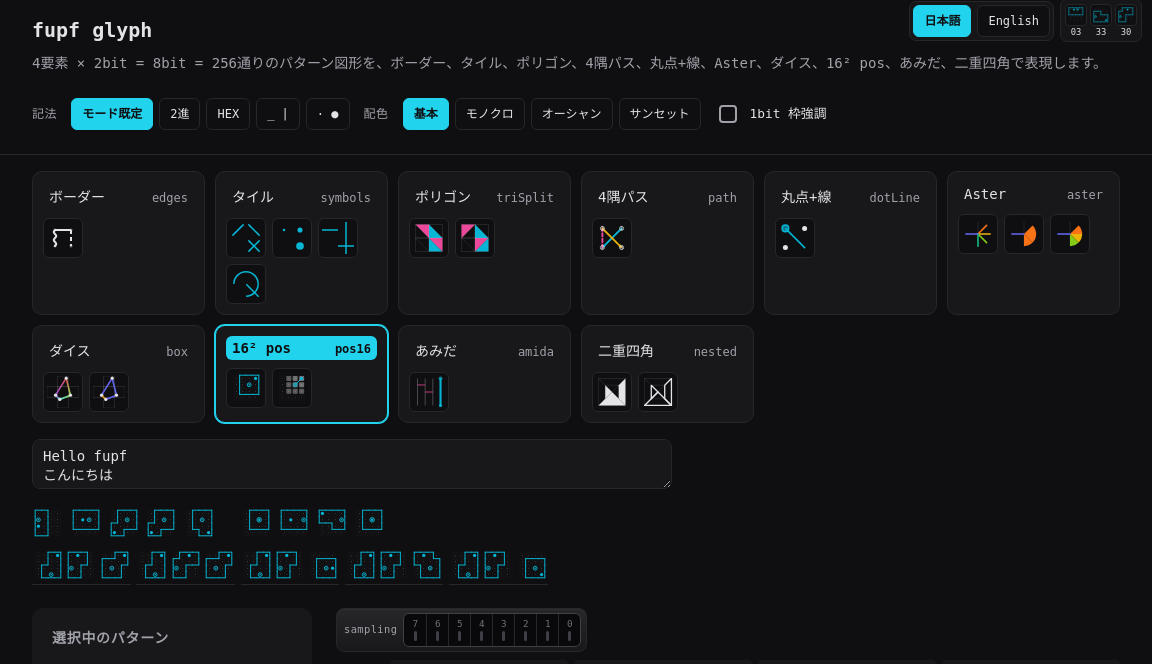
Test case: App › filters grid by selected paging bits
Click the checkbox named "bit7": (415, 630) [413, 618, 418, 641]
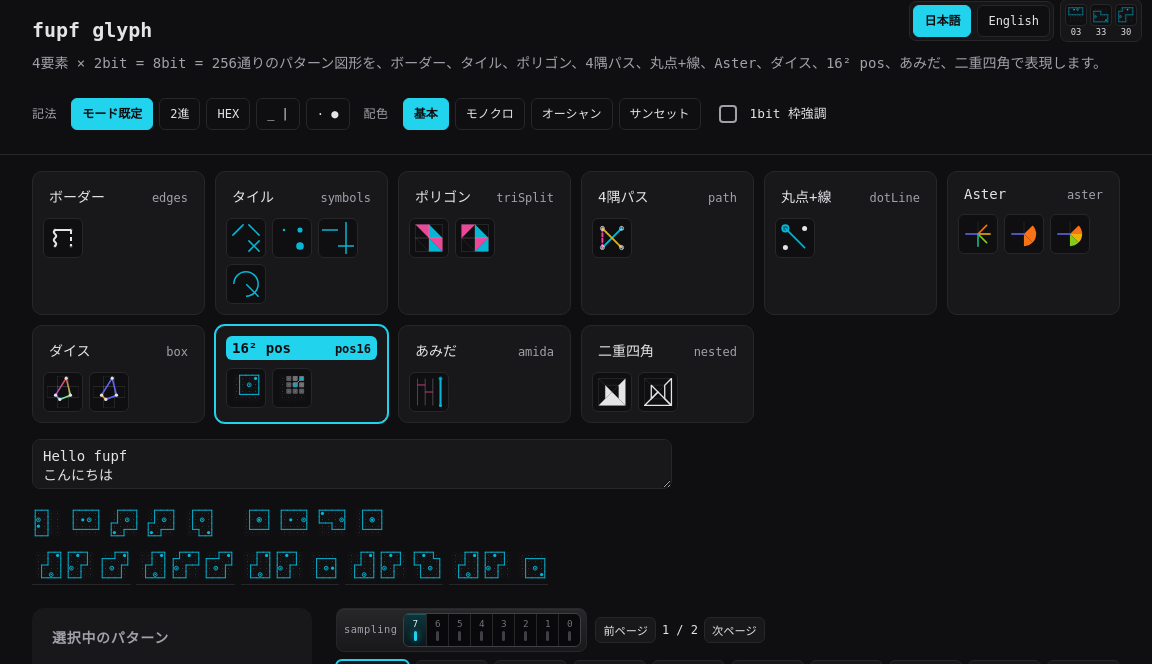
Click the checkbox named "bit6": (437, 630) [426, 614, 448, 646]
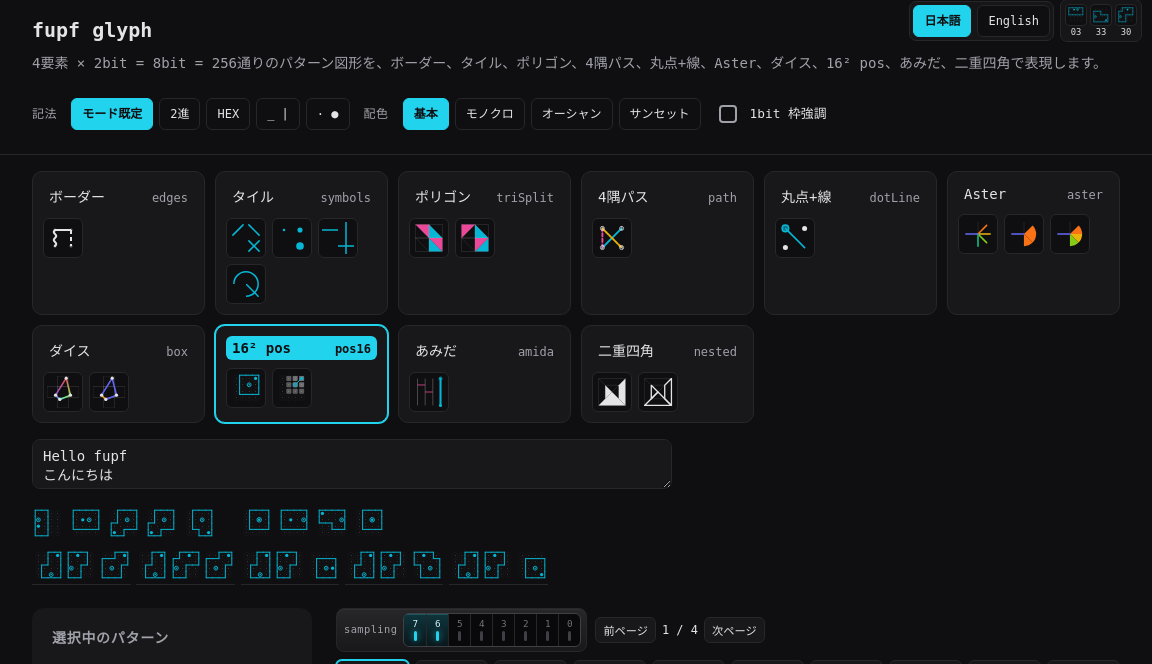
Check: the element with class "bit-section-switch" is shown, box [403, 613, 581, 647]
Check: the element with class "grid-pager" is shown, box [595, 617, 765, 643]
Check: the text "1 / 4" is shown, box [662, 621, 698, 639]
Click the button "次ページ": (734, 630) [704, 617, 765, 643]
(page scrolled)
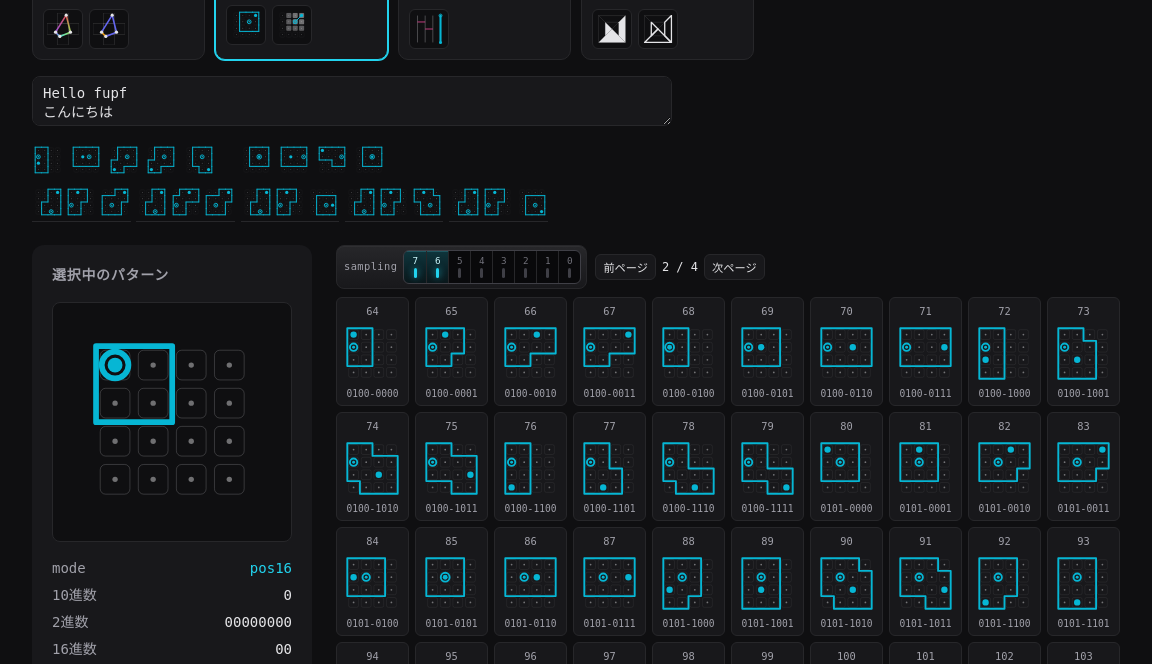
Check: the element with id "cell-64" is shown, box [336, 297, 409, 406]
Check: the text "2 / 4" is shown, box [662, 258, 698, 276]
